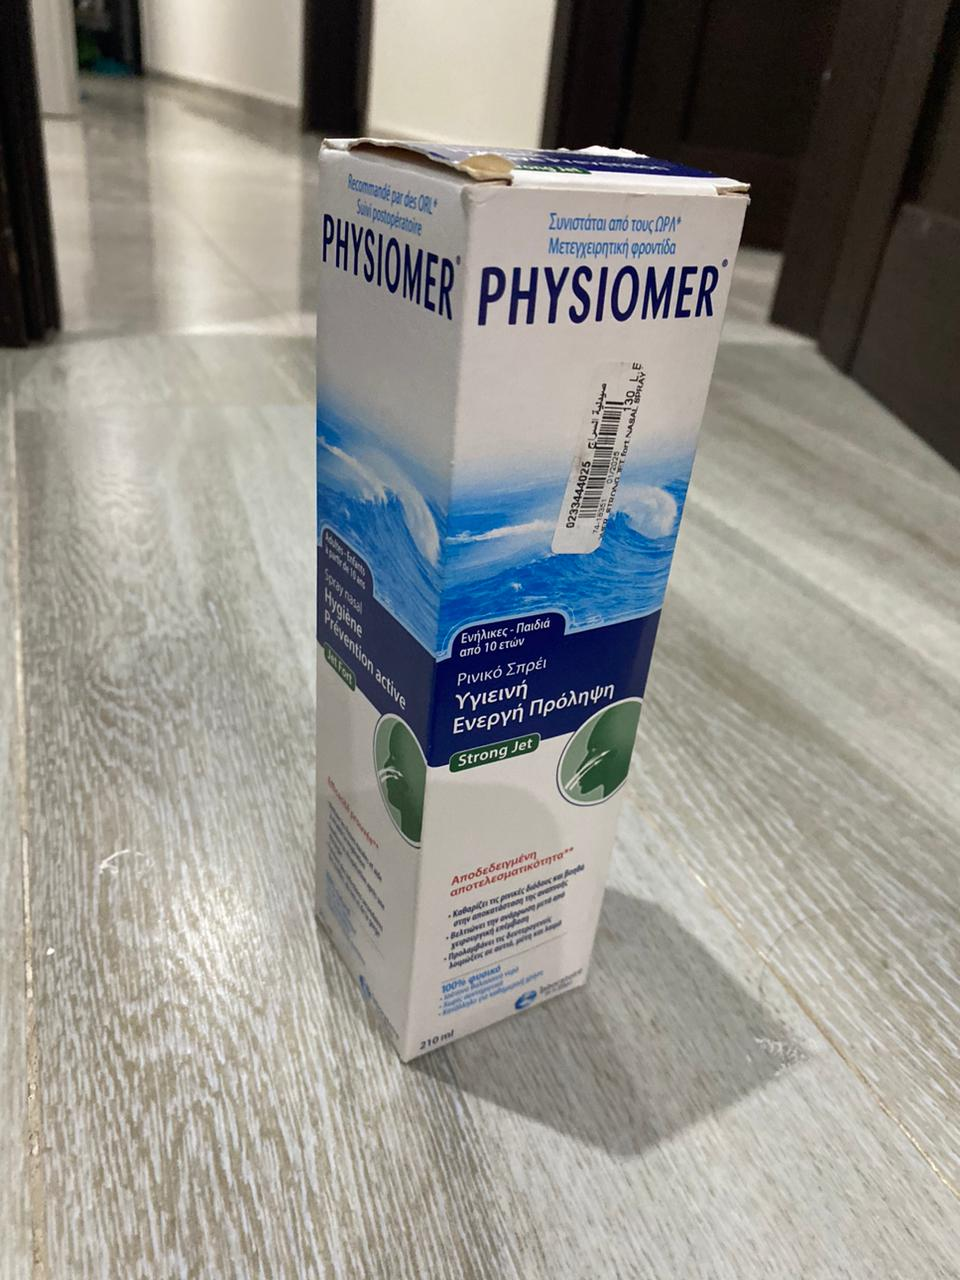Physiomer: (310, 123, 754, 1068)
